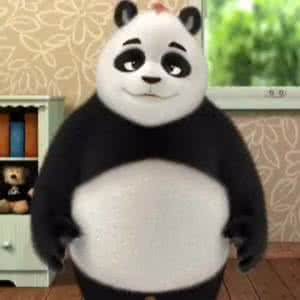panda: (29, 2, 268, 300)
